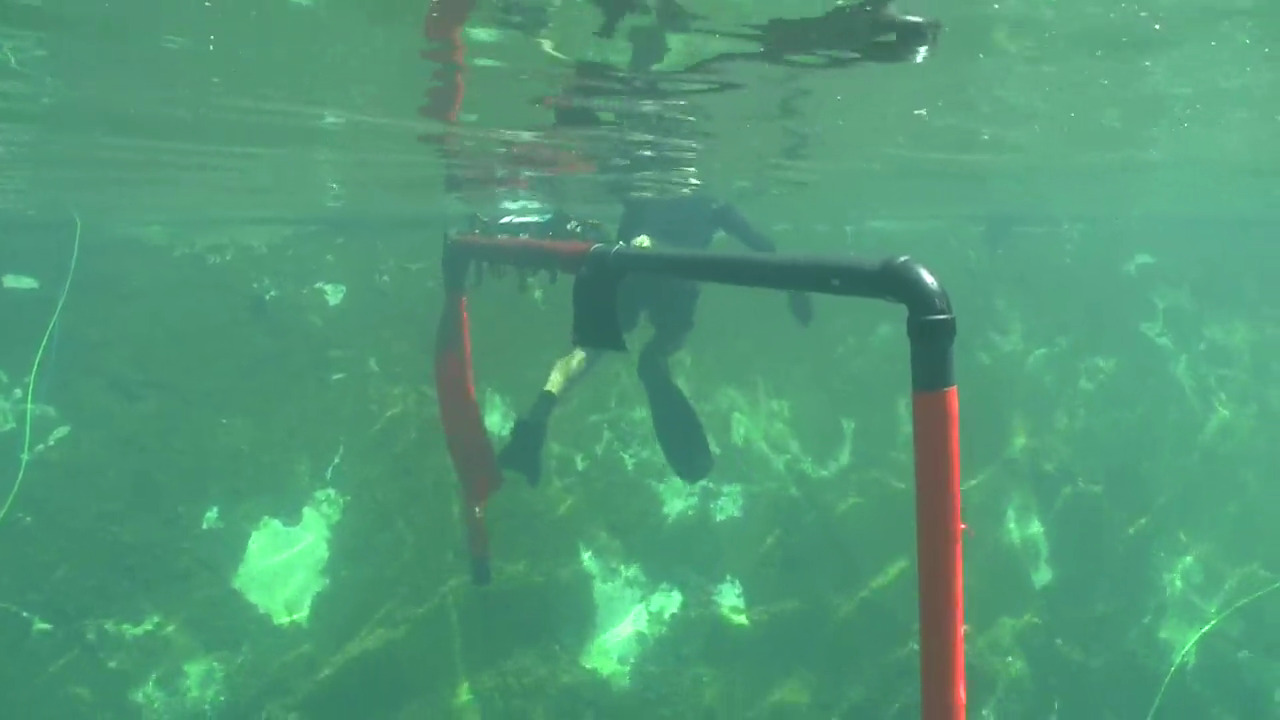gate: (428, 222, 972, 720)
